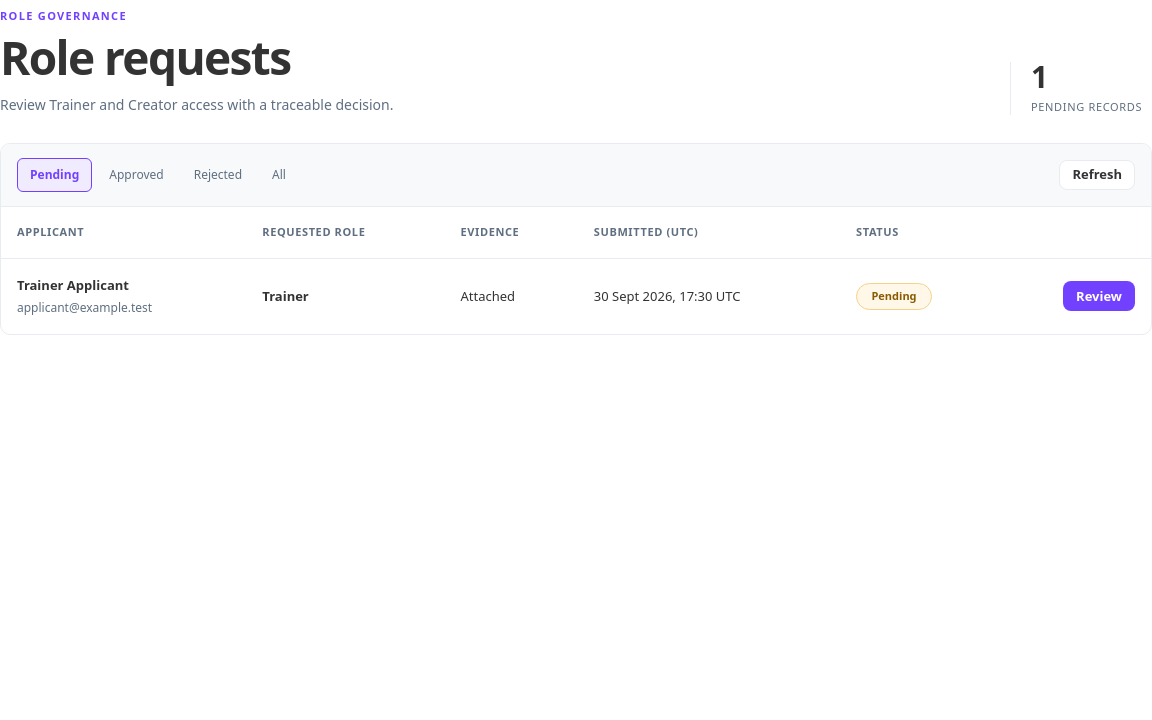
Test: handles an evidence download failure with a friendly message and reference
This screenshot has width=1152, height=720.
Click the button "Review".
click(1099, 296)  # box [1063,281,1135,311]
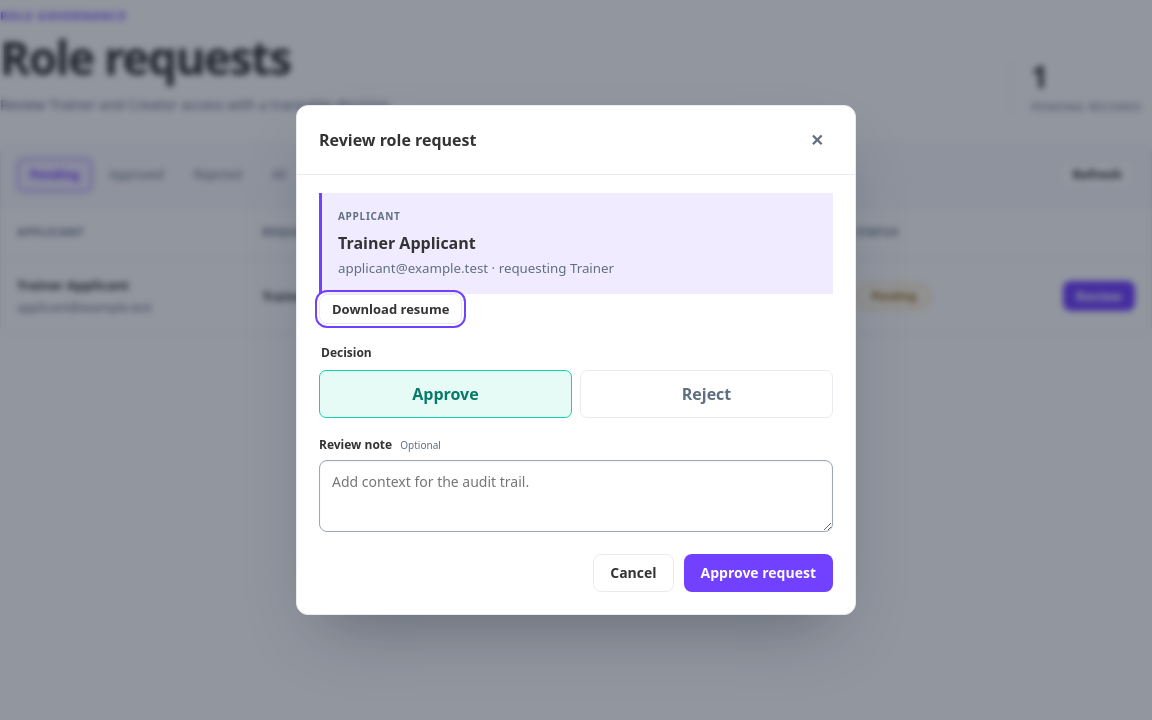
Click the button "Download resume".
click(391, 310)  # box [319,294,462,324]
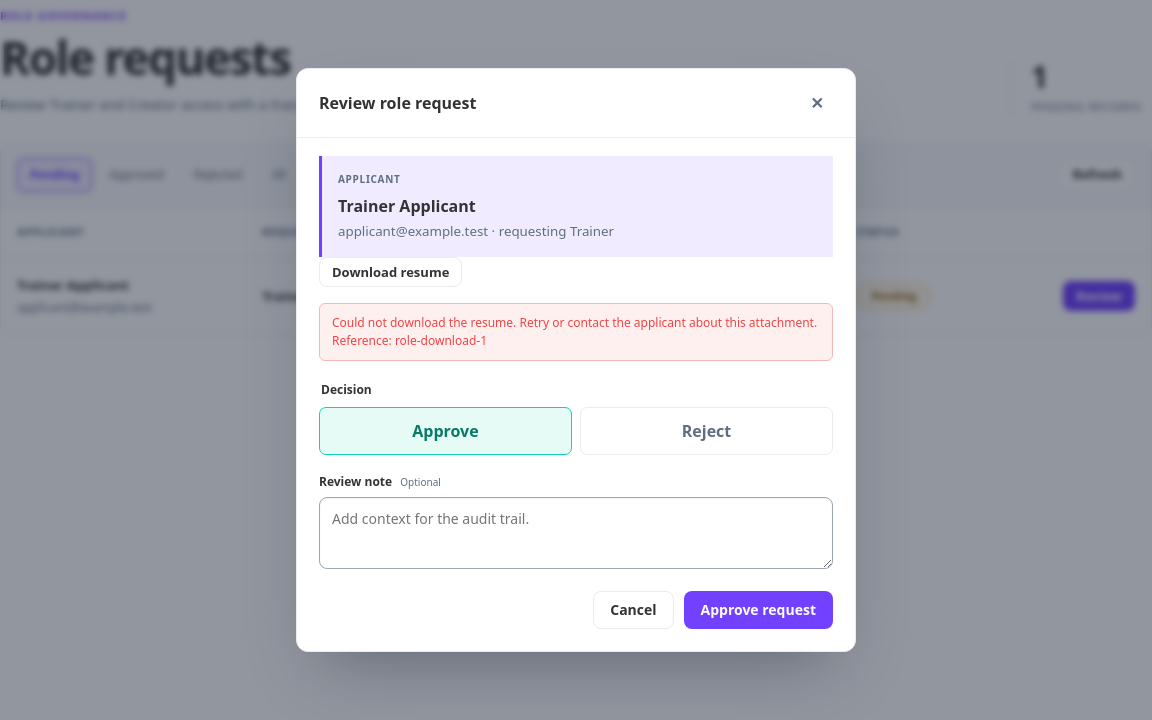
Expected: the text "Reference: role-download-1" is shown, [332,314,817,350]
